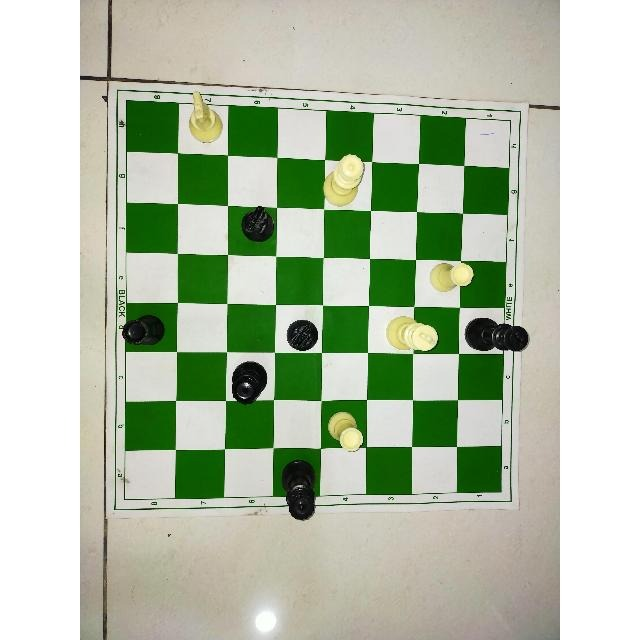black-king: (463, 314, 530, 355)
black-knight: (283, 315, 323, 353), (240, 205, 275, 242)
black-queen: (280, 458, 317, 522), (230, 359, 269, 407)
black-rook: (121, 312, 167, 347)
white-king: (382, 315, 446, 353)
white-knight: (182, 90, 226, 145)
white-queen: (323, 151, 369, 209)
white-rook: (324, 409, 365, 453), (428, 257, 476, 294)
